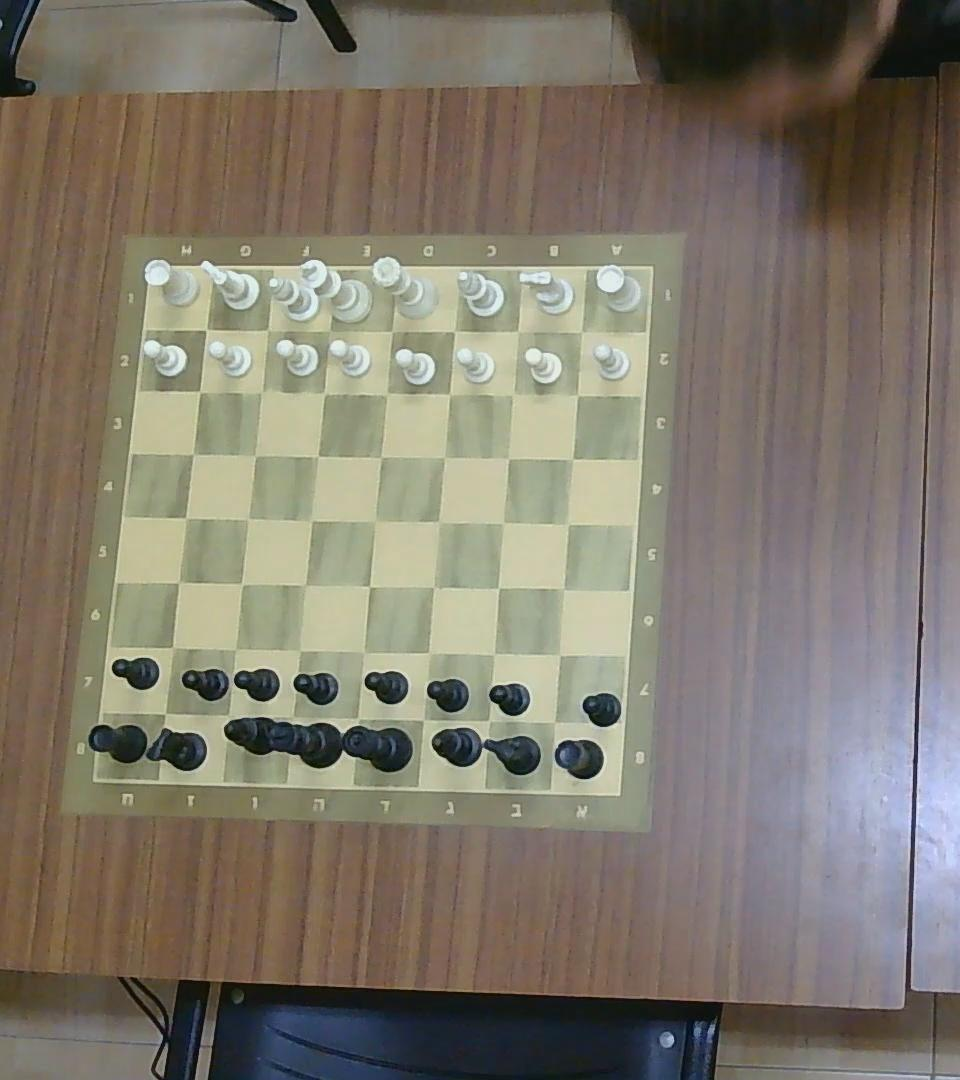xcorner: (343, 707, 368, 733), (154, 701, 178, 725), (280, 704, 303, 729), (217, 703, 239, 727), (319, 319, 341, 341), (162, 637, 184, 658), (476, 710, 499, 730), (542, 712, 565, 732), (288, 639, 310, 659), (413, 710, 434, 730), (567, 384, 587, 405), (169, 572, 189, 592), (244, 445, 264, 465), (364, 511, 384, 531), (182, 443, 201, 464), (440, 383, 459, 403), (225, 639, 244, 659), (376, 383, 395, 402), (445, 321, 464, 340), (196, 319, 215, 338), (483, 645, 502, 664), (423, 577, 442, 596), (420, 643, 439, 662), (488, 579, 507, 598), (554, 579, 573, 598), (429, 511, 447, 531), (315, 383, 333, 402), (296, 574, 314, 593), (361, 577, 379, 596), (177, 508, 195, 527), (252, 382, 271, 400), (510, 321, 528, 340), (232, 574, 250, 593), (494, 513, 512, 532), (573, 321, 591, 340), (382, 321, 400, 340), (550, 645, 568, 664), (354, 642, 373, 660), (435, 448, 453, 466), (371, 448, 389, 466), (559, 515, 577, 533), (240, 510, 258, 528), (259, 321, 277, 339), (303, 510, 320, 529), (500, 448, 517, 466), (190, 382, 207, 400), (309, 446, 326, 464), (564, 450, 582, 467), (505, 386, 522, 403)
